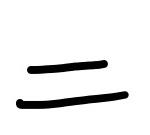eqv: (13, 56, 130, 109)
